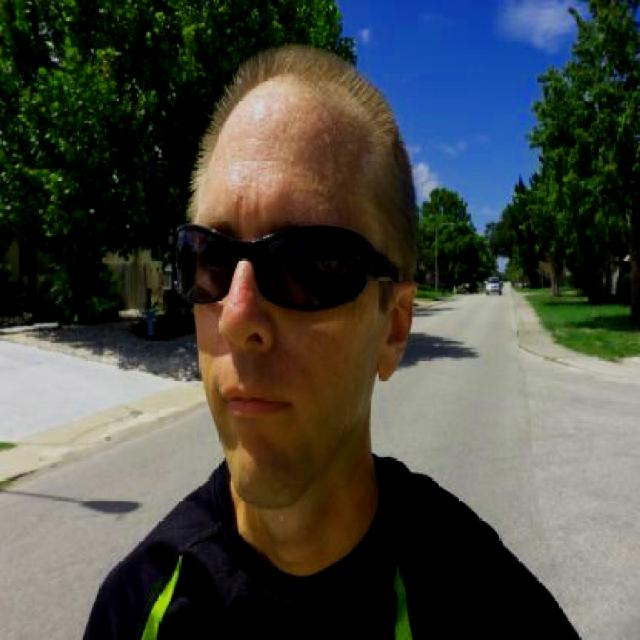face_nomask: (170, 222, 372, 442)
glasses: (165, 212, 407, 320)
head_nohelmet: (198, 57, 394, 165)
person: (114, 55, 560, 640)
